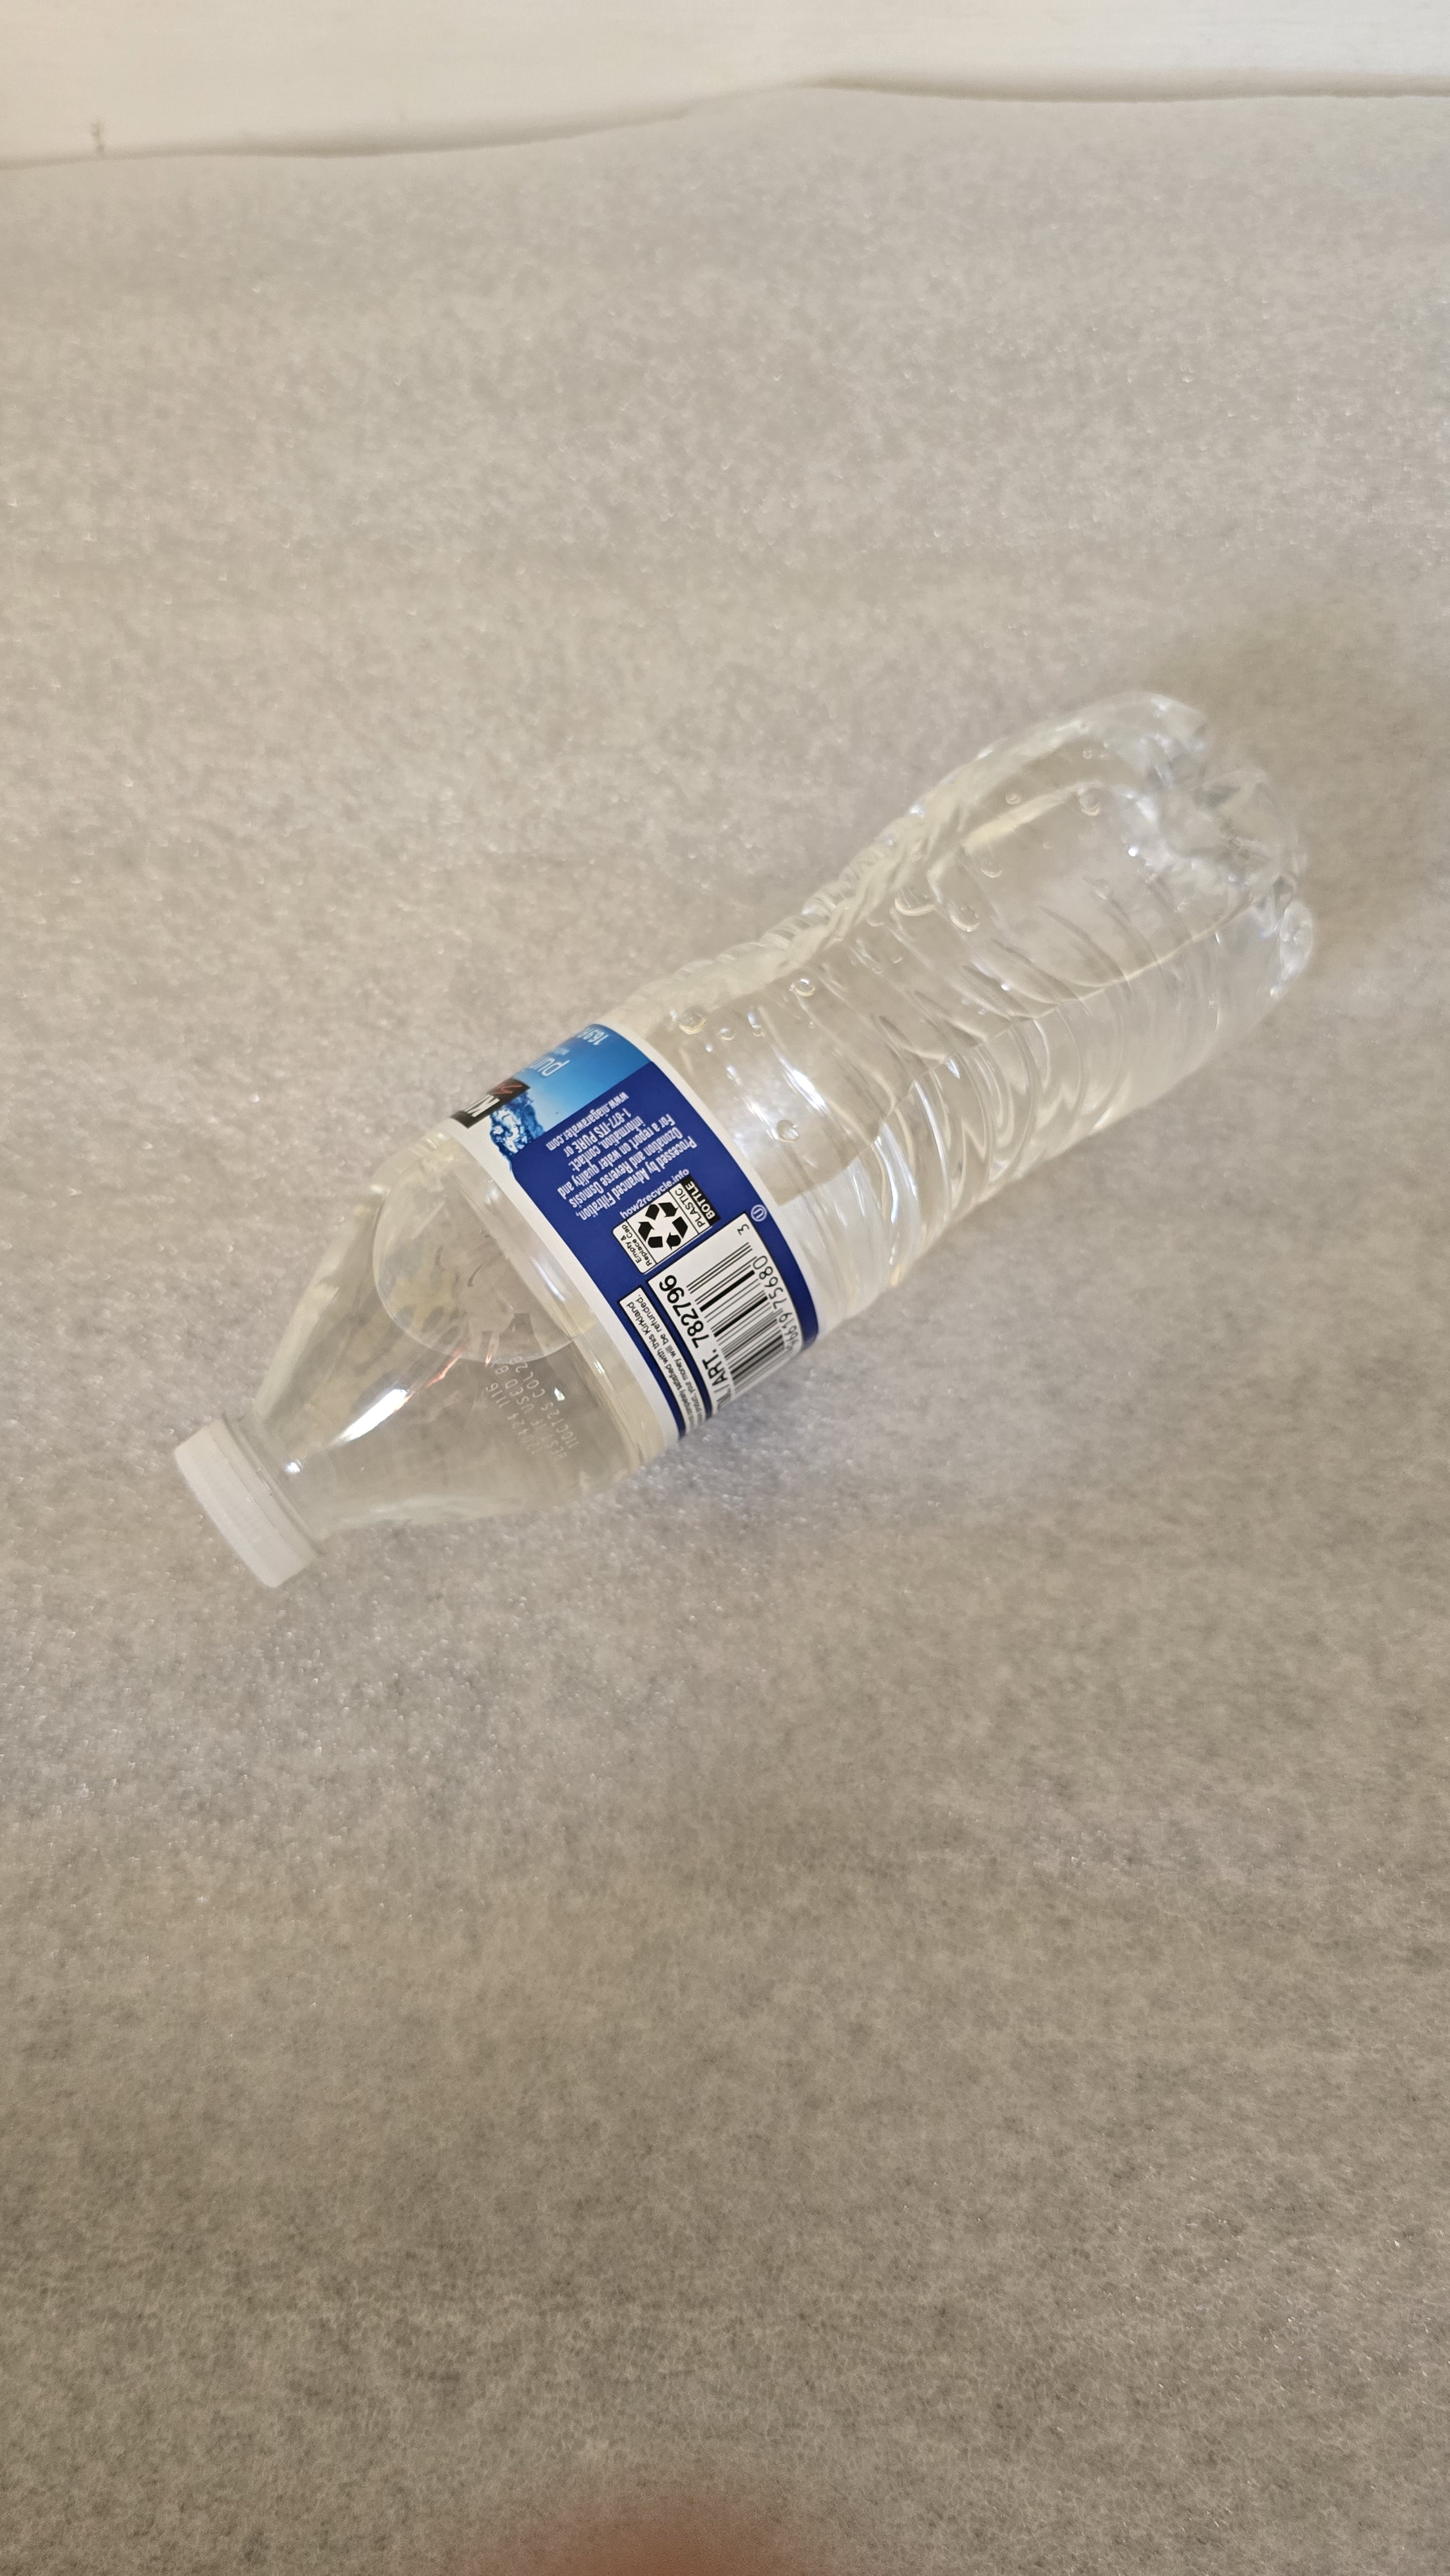bottle: (133, 512, 1386, 1744)
